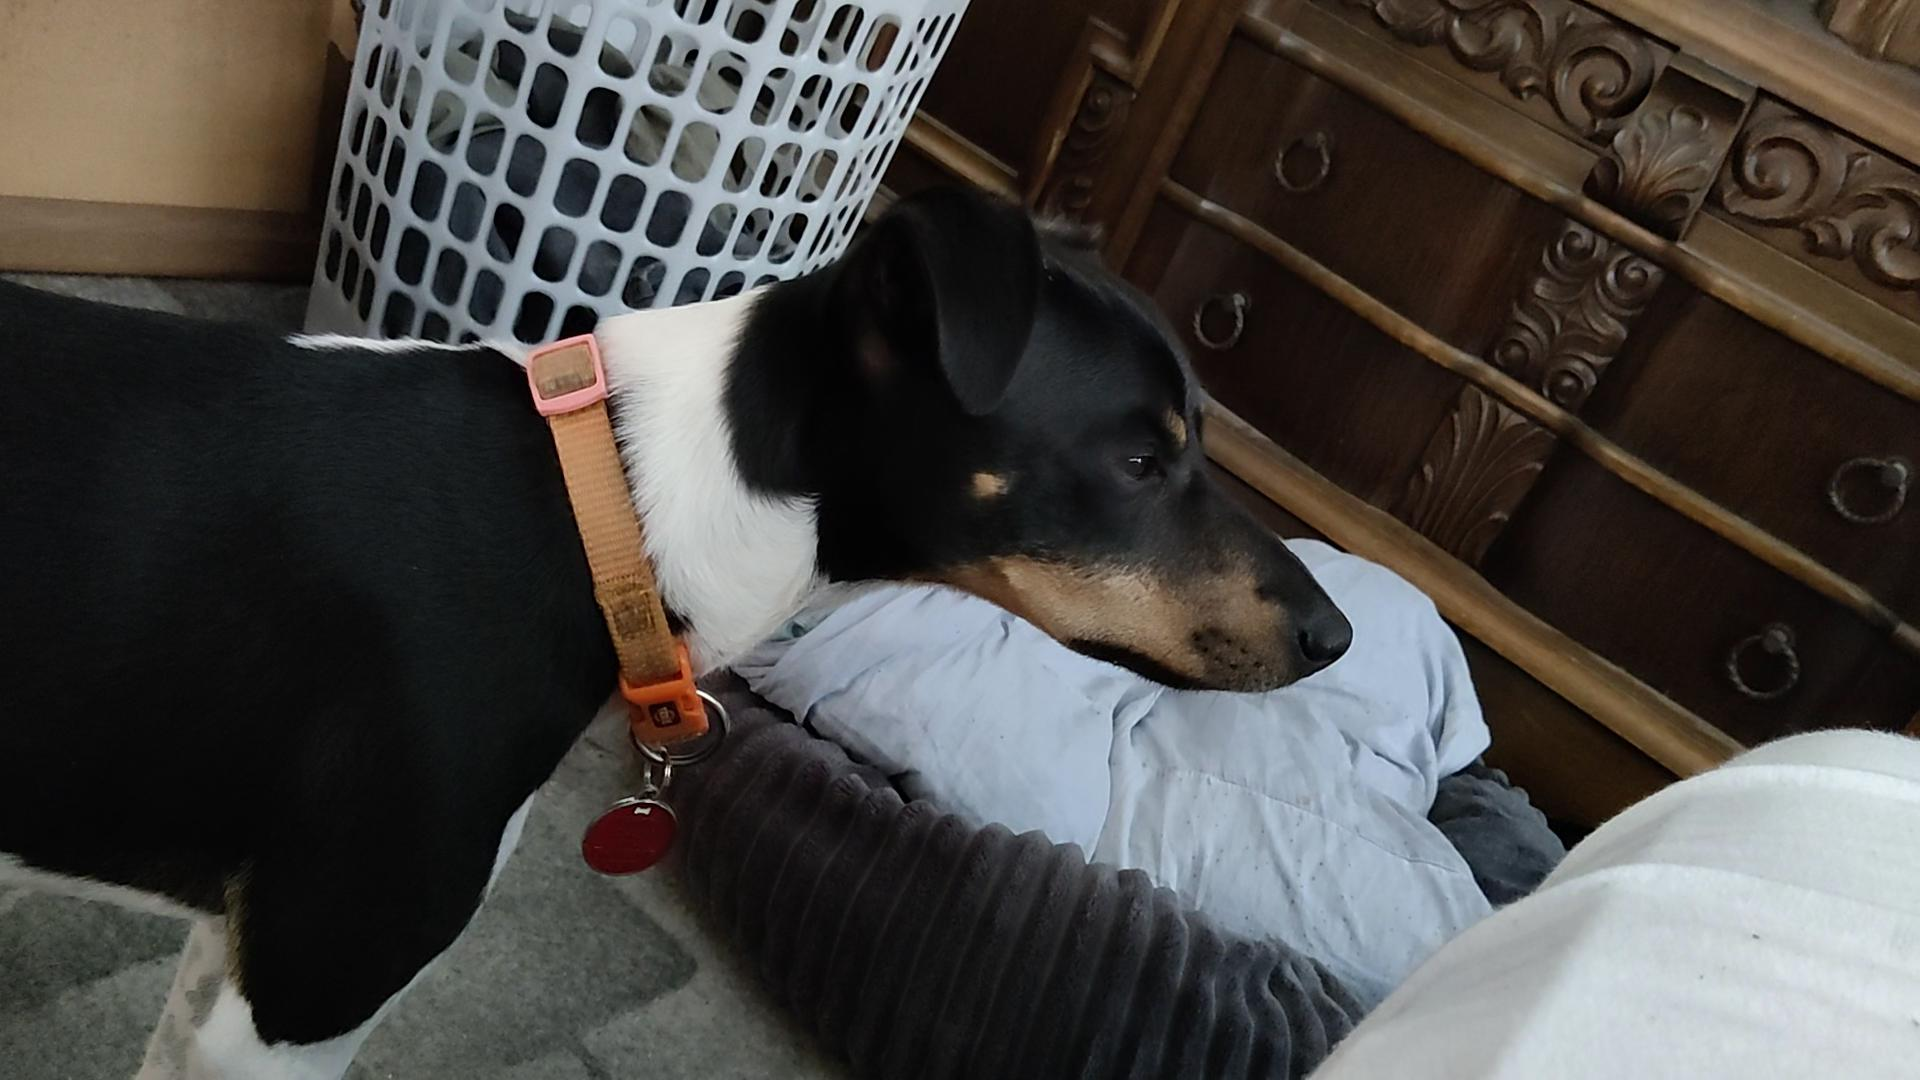Dog: (0, 169, 1367, 1079)
